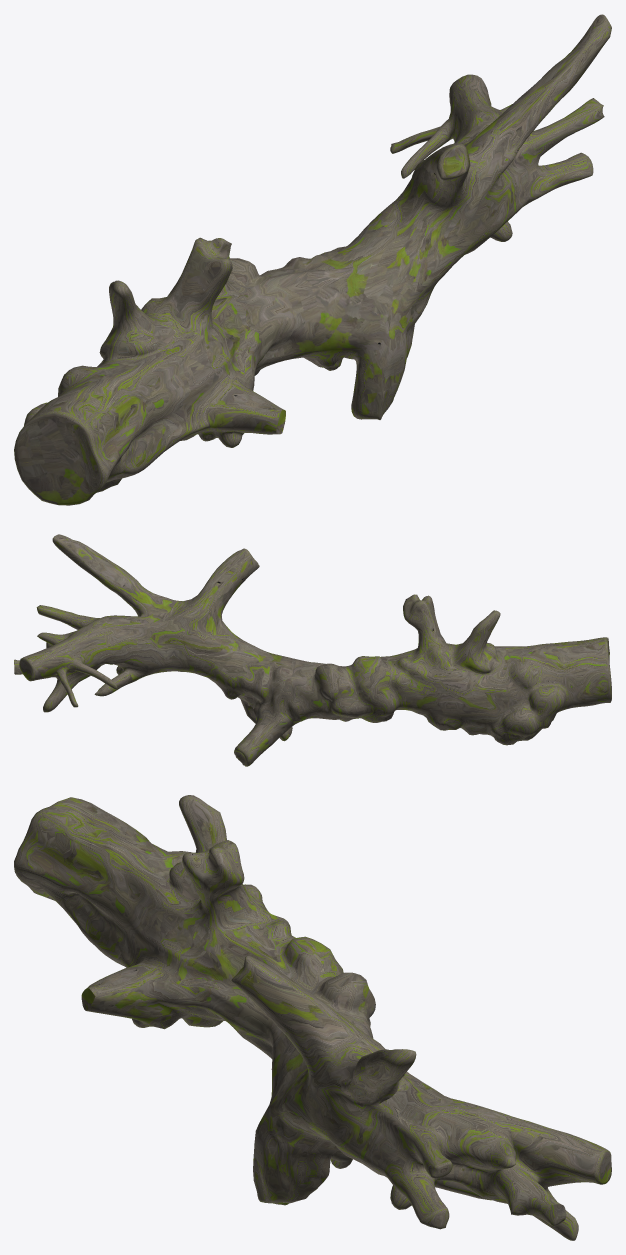
Rendered from Tronco.glb.
3 views of the same model, one above another, from view 1: azimuth 30°, elevation 25°; view 2: azimuth 150°, elevation 25°; view 3: azimuth 270°, elevation 25° (orthographic). The views are drawn at different scales.
Visible parts, largest first — view 1: prim0; view 2: prim0; view 3: prim0.
Part boxes in pixels (box(x1,y1,x2,y2)): prim0: box(14, 14, 611, 505); prim0: box(14, 534, 611, 766); prim0: box(14, 795, 611, 1240).
Bounding box in the file's own units: 4.12 × 1.54 × 2.67.
Materials: 1 (1 with a texture image).
